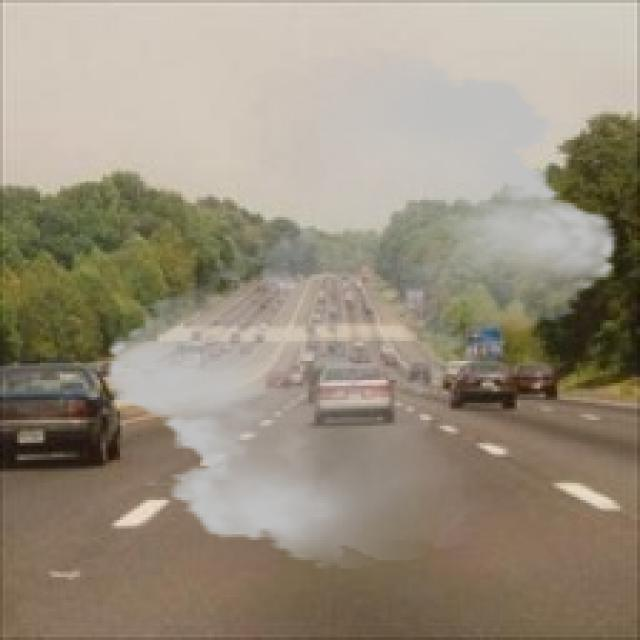Smoke: (88, 49, 634, 568)
